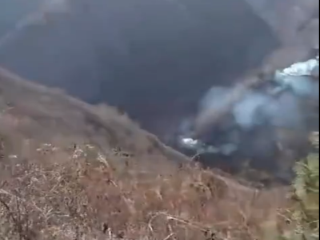smoke: (178, 69, 285, 157), (275, 53, 316, 79)
